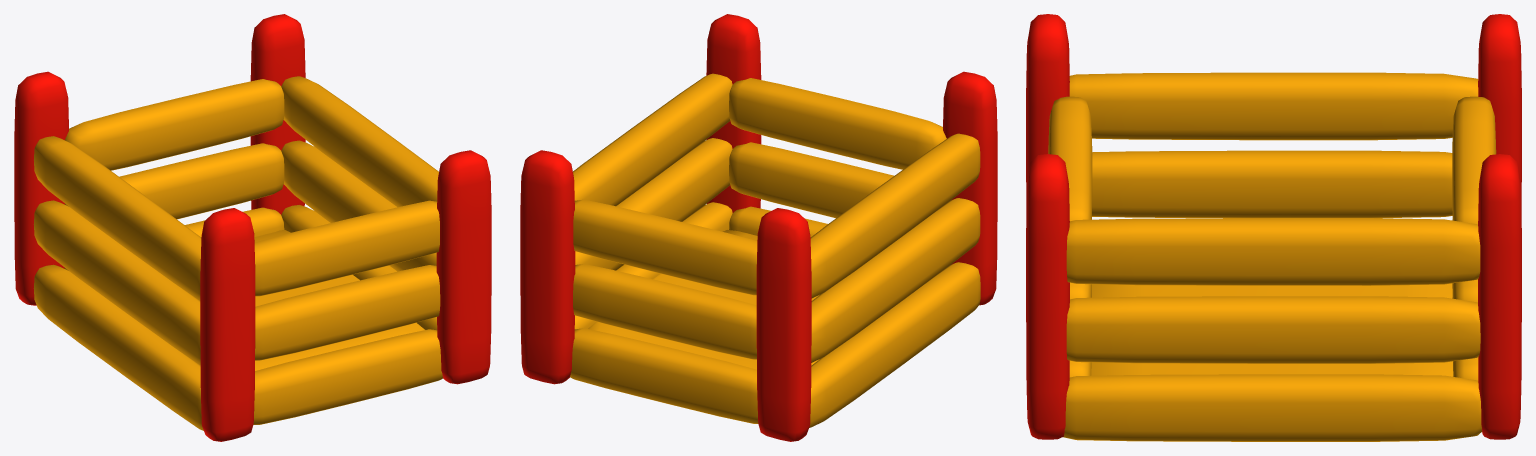
Rendered from Caisse2.fbx.
3 views of the same model, side by side, from view 1: azimuth 30°, elevation 25°; view 2: azimuth 150°, elevation 25°; view 3: azimuth 270°, elevation 25° (orthographic). The views are drawn at different scales.
Visible parts, largest first — view 1: Cube.021; view 2: Cube.021; view 3: Cube.021.
Part boxes in pixels (x1=…): Cube.021: x1=14, y1=14, x2=491, y2=441; Cube.021: x1=520, y1=14, x2=997, y2=441; Cube.021: x1=1026, y1=14, x2=1521, y2=441.
Bounding box in the file's own units: 75.19 × 57.58 × 93.77.
